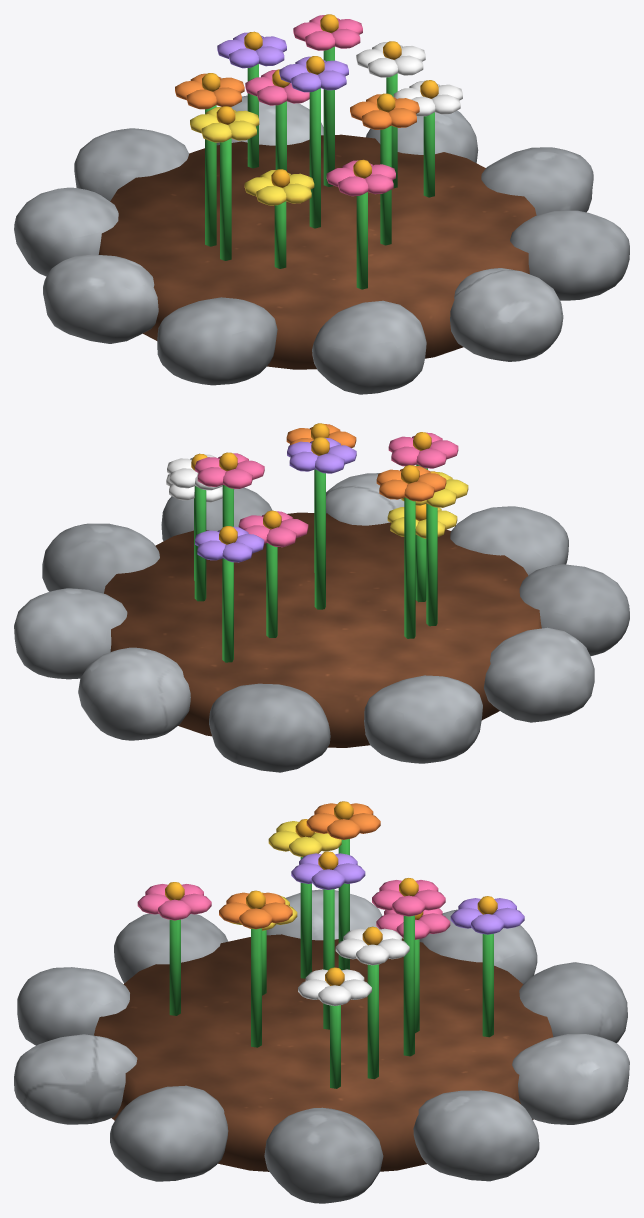
The model's file is flowerbed.glb.
The picture shows the model from 3 angles, top to bottom: view 1: azimuth 30°, elevation 25°; view 2: azimuth 150°, elevation 25°; view 3: azimuth 270°, elevation 25°; orthographic projection. The views are drawn at different scales.
Parts seen in each view (by area): view 1: Flowerbed; view 2: Flowerbed; view 3: Flowerbed.
Part boxes in pixels (bbox=[...]): Flowerbed: bbox=[14, 14, 629, 394]; Flowerbed: bbox=[14, 423, 629, 772]; Flowerbed: bbox=[14, 801, 629, 1203].
Size of the model in its own units: 1.24 by 0.4987 by 1.19.
1 material, 1 textured.
